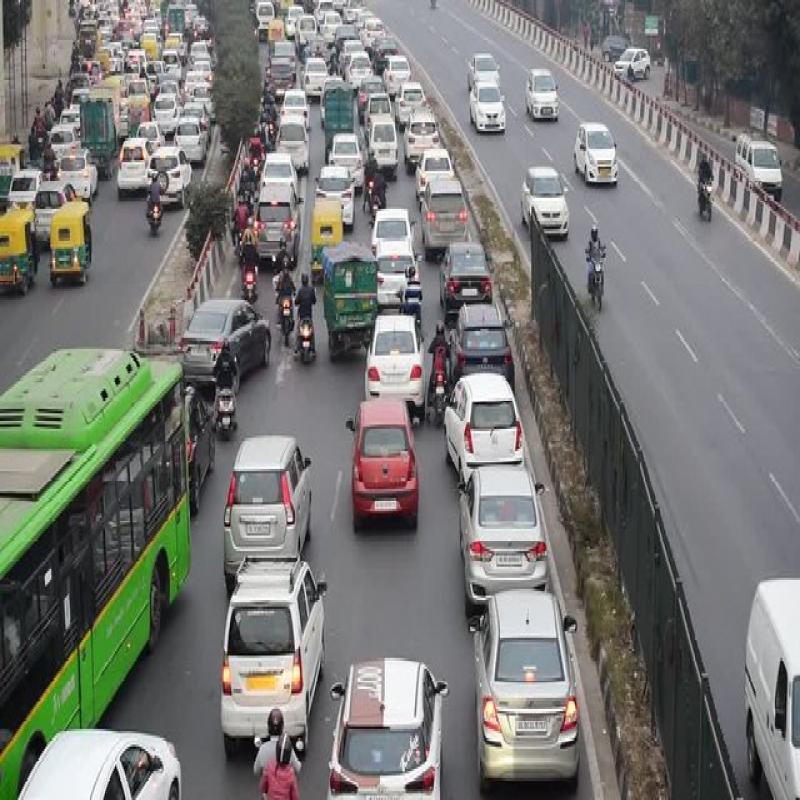auto: (50, 200, 102, 283), (0, 193, 39, 296), (311, 194, 347, 273)
bike: (585, 218, 612, 320), (695, 176, 725, 234), (238, 241, 262, 312), (270, 294, 301, 342), (431, 350, 450, 426), (301, 310, 319, 368)
bus: (3, 332, 192, 800)
car: (216, 540, 324, 750), (475, 602, 590, 784), (330, 651, 450, 800), (27, 703, 189, 800), (218, 419, 314, 572), (457, 459, 558, 599), (438, 378, 533, 481), (350, 394, 413, 536), (184, 279, 268, 384), (365, 291, 427, 401), (450, 301, 526, 375), (522, 149, 572, 247), (571, 117, 632, 196), (254, 174, 305, 265), (254, 139, 299, 216), (467, 71, 511, 137), (527, 57, 567, 126), (112, 136, 152, 202), (614, 36, 661, 87)
